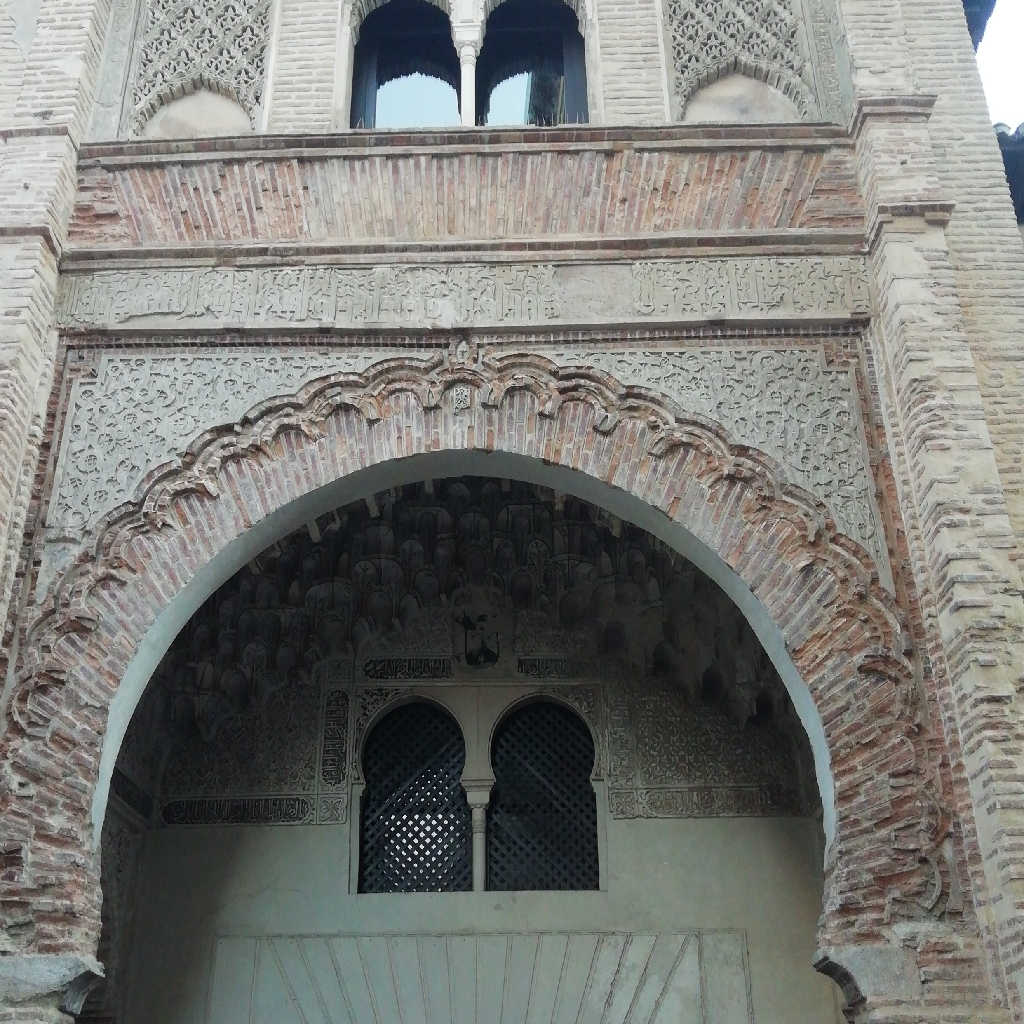arco-herradura: (37, 423, 897, 1024), (480, 689, 609, 801), (354, 688, 479, 800)
dintel-adovelado: (112, 129, 831, 256), (264, 932, 701, 1024)
